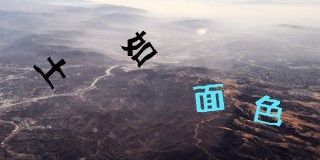土: (34, 56, 68, 89)
如: (119, 28, 160, 69)
色: (253, 93, 282, 126)
面: (191, 83, 228, 114)
